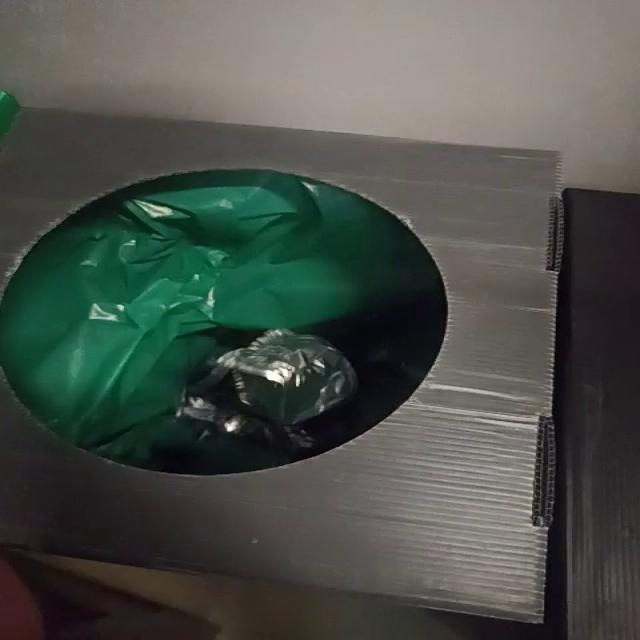bin: (1, 109, 560, 622)
metal: (217, 329, 357, 425)
